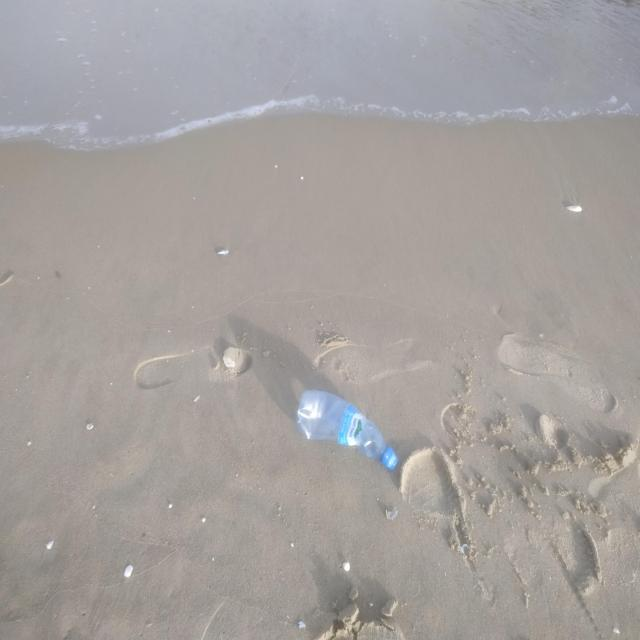litter: (295, 389, 389, 463), (381, 446, 399, 471)
